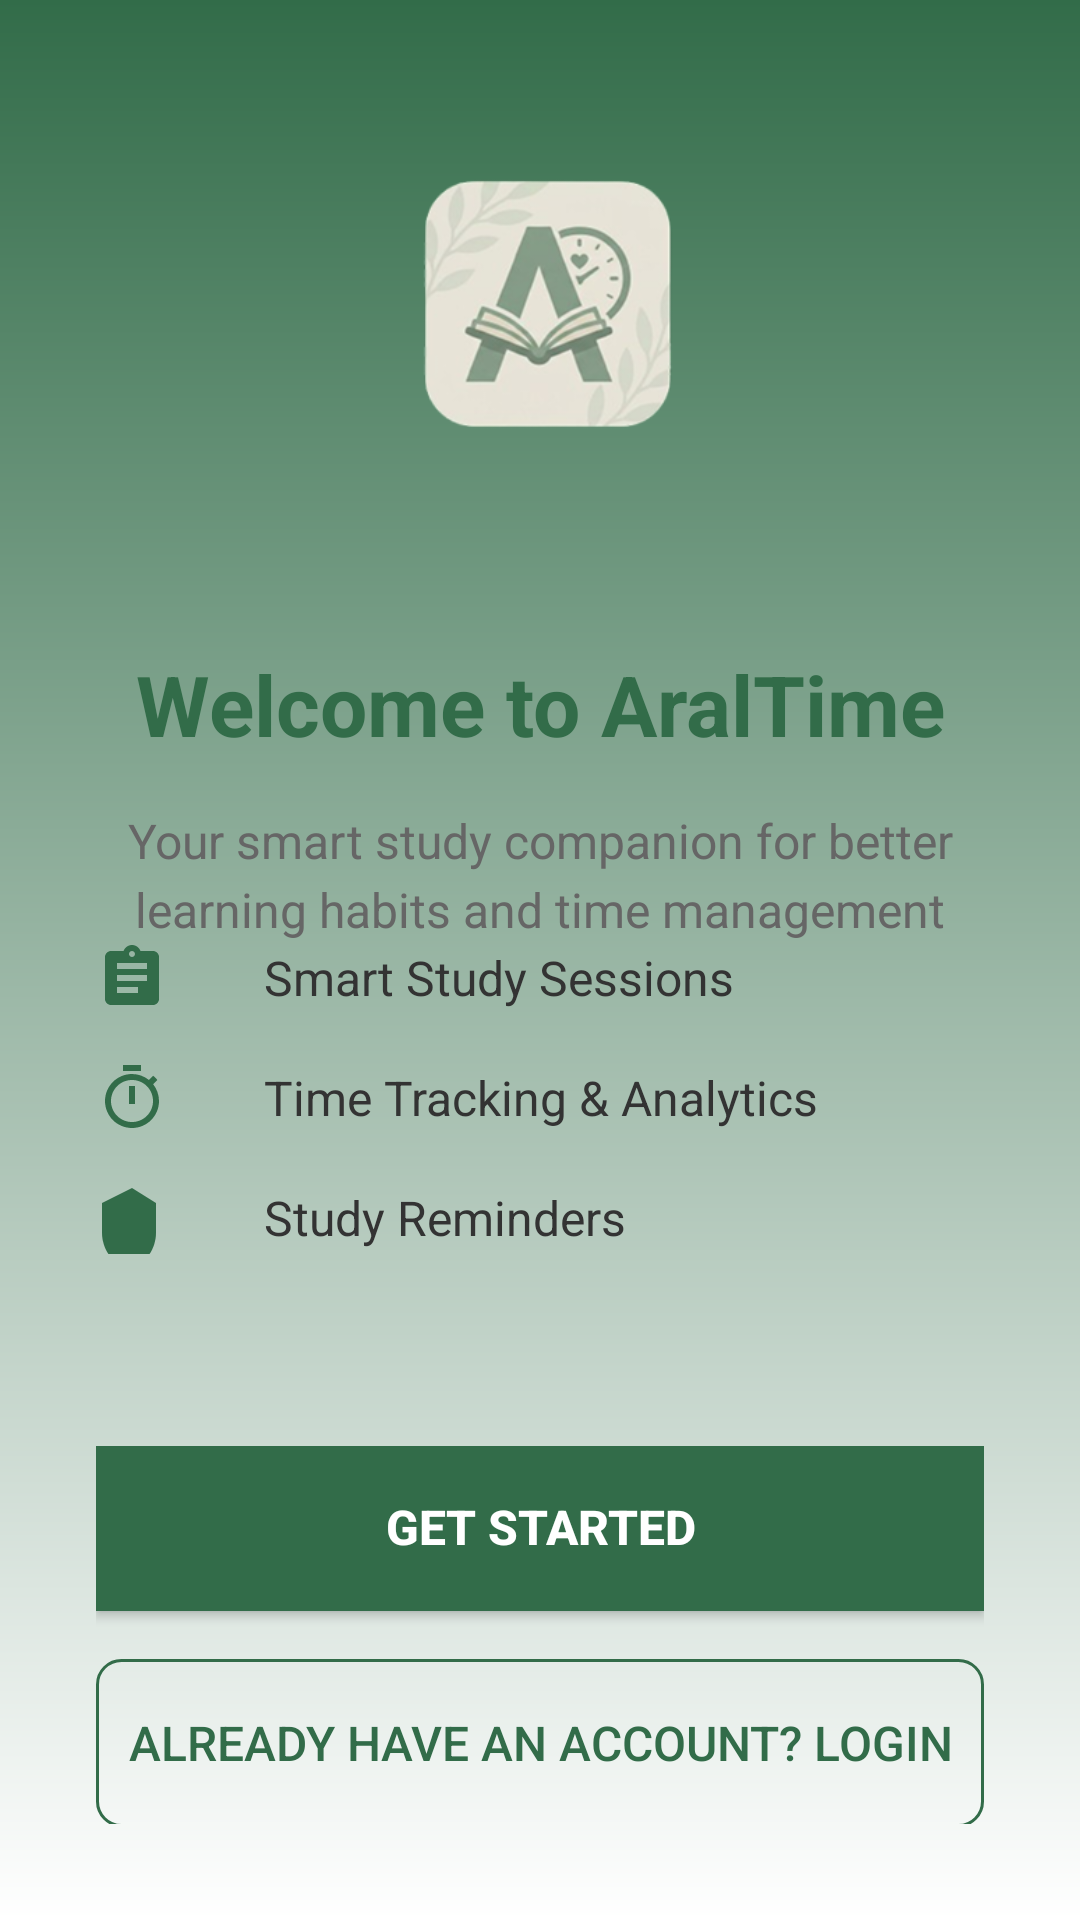

Locate icon controls on the screen. Image size 1080 × 1920, boxes as (x1, y1, x2, y2).
timer: (105, 1065, 159, 1128)
